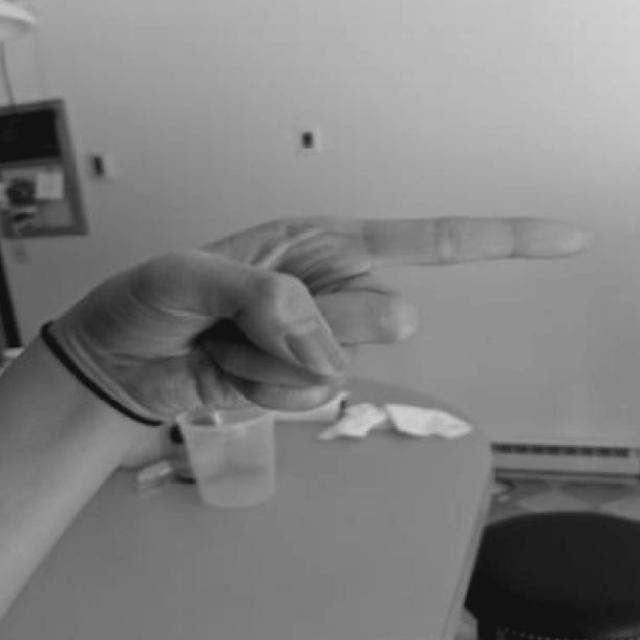G: (60, 175, 618, 430)
